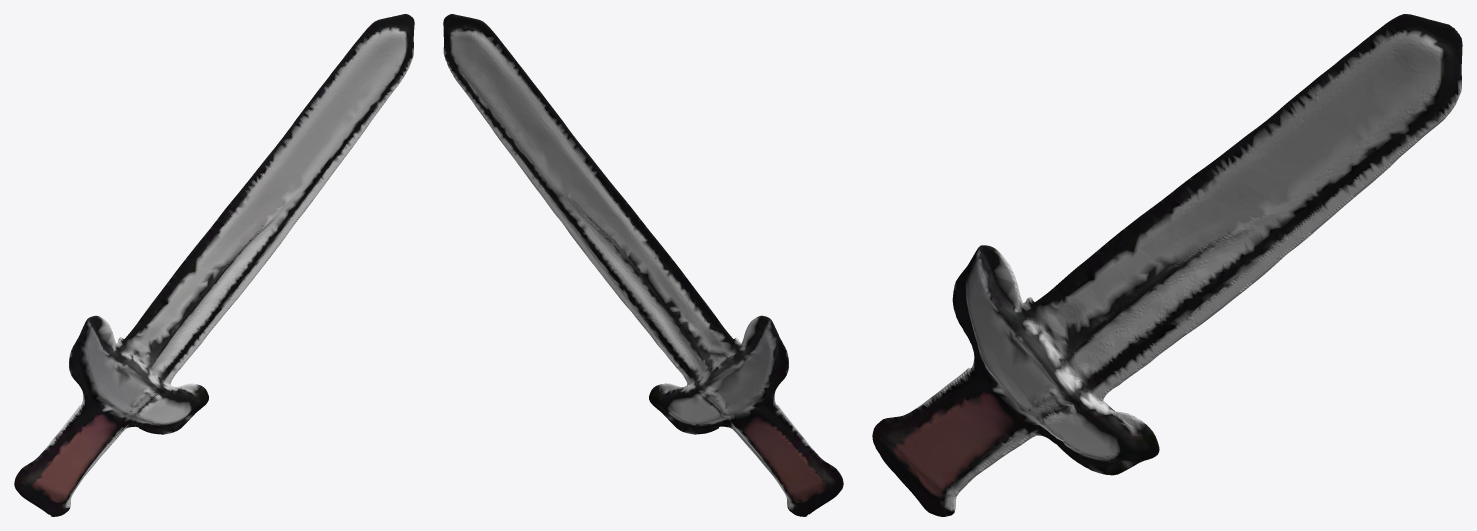
File: sword_4.glb
3 views of the same model, side by side, from view 1: azimuth 30°, elevation 25°; view 2: azimuth 150°, elevation 25°; view 3: azimuth 330°, elevation 25° (orthographic). The views are drawn at different scales.
Parts seen in each view (by area): view 1: geometry_0; view 2: geometry_0; view 3: geometry_0.
Part boxes in pixels (x1,y1,x2,y2): geometry_0: [14, 14, 414, 516]; geometry_0: [443, 14, 843, 516]; geometry_0: [872, 14, 1462, 516].
Size of the model in its own units: 0.9062 by 0.9053 by 0.0432.
